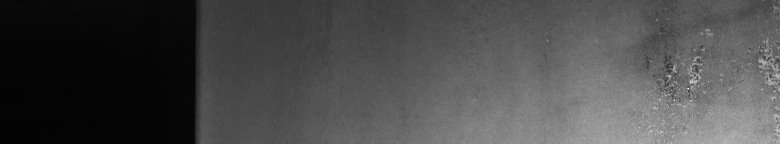hc: (636, 4, 776, 132)
